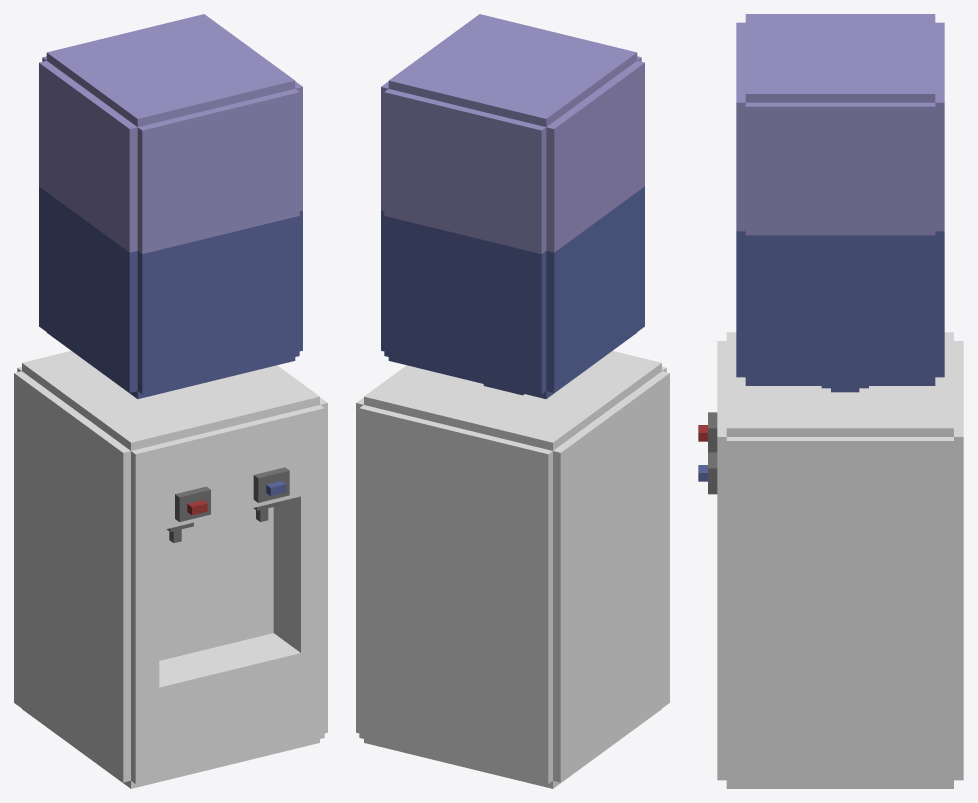
The model's file is SchoolPack-42-dispenser.obj.
The picture shows the model from 3 angles, left to right: view 1: azimuth 30°, elevation 25°; view 2: azimuth 150°, elevation 25°; view 3: azimuth 270°, elevation 25°; orthographic projection. The views are drawn at different scales.
Parts seen in each view (by area): view 1: dispenser; view 2: dispenser; view 3: dispenser.
Part boxes in pixels (box(x1,y1,x2,y2)): dispenser: box(14, 14, 327, 788); dispenser: box(356, 14, 669, 788); dispenser: box(698, 14, 963, 788).
Size of the model in its own units: 2.6 by 8 by 2.8.
Materials: 1 (1 with a texture image).
